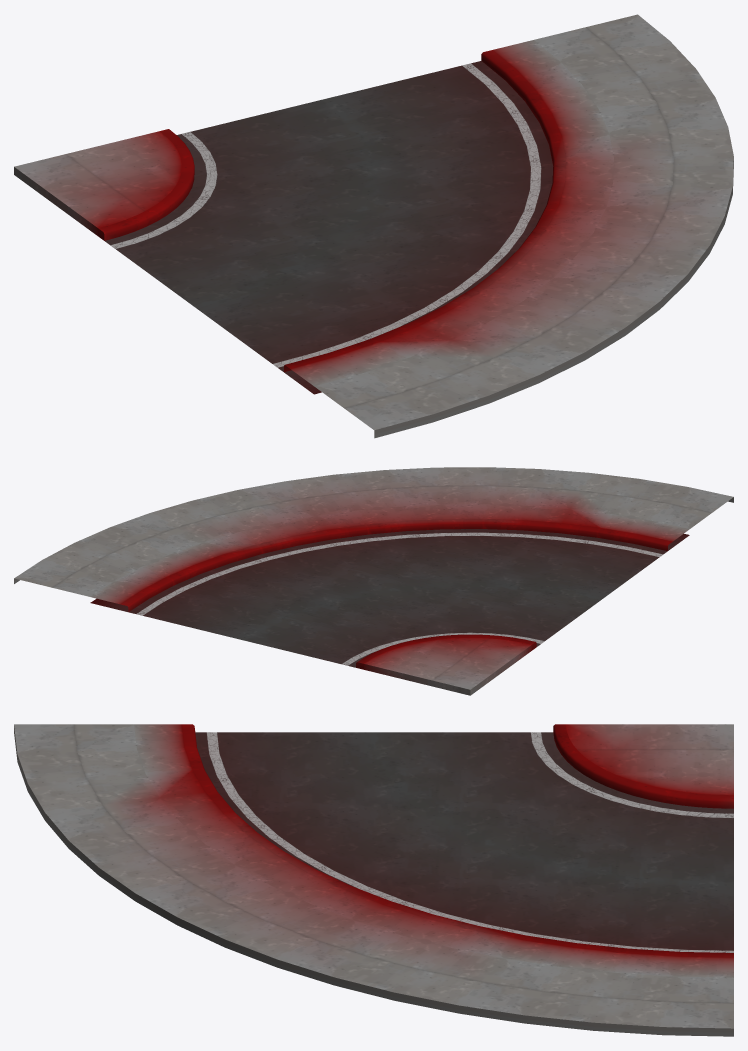
Rendered from Street_Curve_2Lane.gltf.
3 renders of one model, top to bottom at view 1: azimuth 30°, elevation 25°; view 2: azimuth 150°, elevation 25°; view 3: azimuth 270°, elevation 25°, orthographic. The views are drawn at different scales.
Parts seen in each view (by area): view 1: Street_Curve_2Lane; view 2: Street_Curve_2Lane; view 3: Street_Curve_2Lane.
Boxes of the visible parts, x1,y1,x2,y2 form: Street_Curve_2Lane: (14, 14, 733, 438); Street_Curve_2Lane: (14, 467, 733, 695); Street_Curve_2Lane: (14, 724, 733, 1036).
Bounding box in the file's own units: 12 × 0.15 × 12.
Materials: 3 (3 with a texture image).
